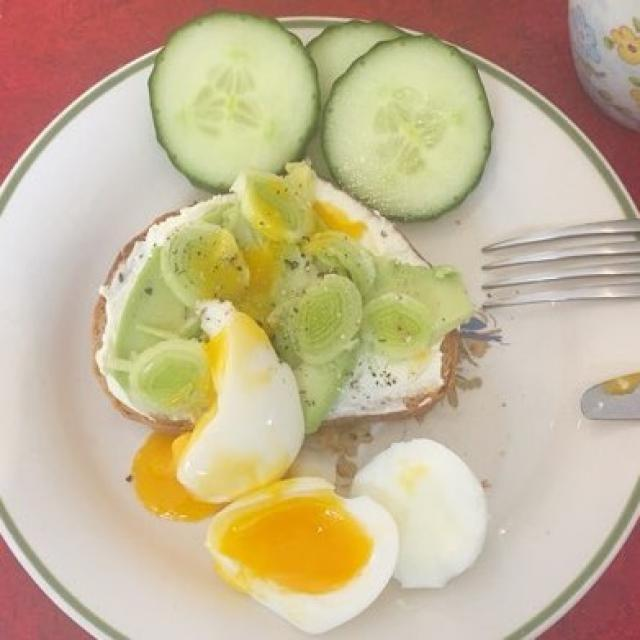cucumber: (139, 37, 478, 233)
onion: (141, 186, 443, 401)
philadelphia: (103, 209, 446, 417)
